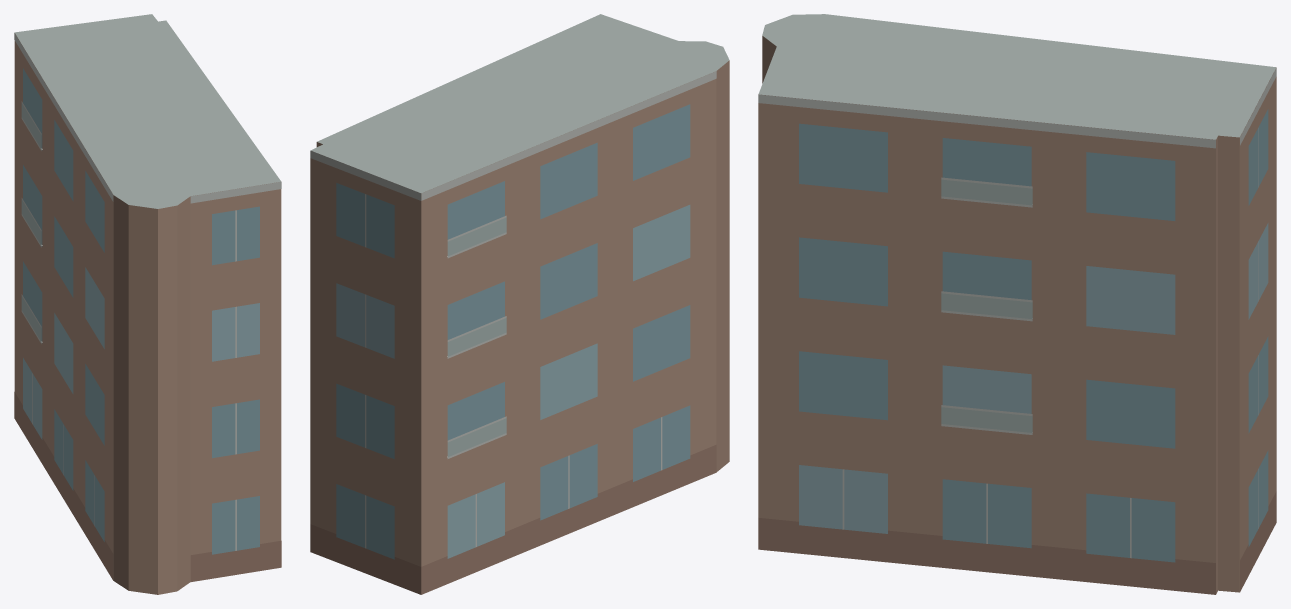
File: survey-upis-32652994.glb
3 renders of one model, left to right at view 1: azimuth 30°, elevation 25°; view 2: azimuth 150°, elevation 25°; view 3: azimuth 270°, elevation 25°, orthographic. The views are drawn at different scales.
Visible parts, largest first — view 1: survey-upis-32652994.tmp; view 2: survey-upis-32652994.tmp; view 3: survey-upis-32652994.tmp.
Part boxes in pixels (left/top/right/bottom): survey-upis-32652994.tmp: left=14, top=14, right=281, bottom=594; survey-upis-32652994.tmp: left=310, top=14, right=729, bottom=594; survey-upis-32652994.tmp: left=758, top=14, right=1276, bottom=594.
Bounding box in the file's own units: 7.59 × 12.8 × 13.22.
